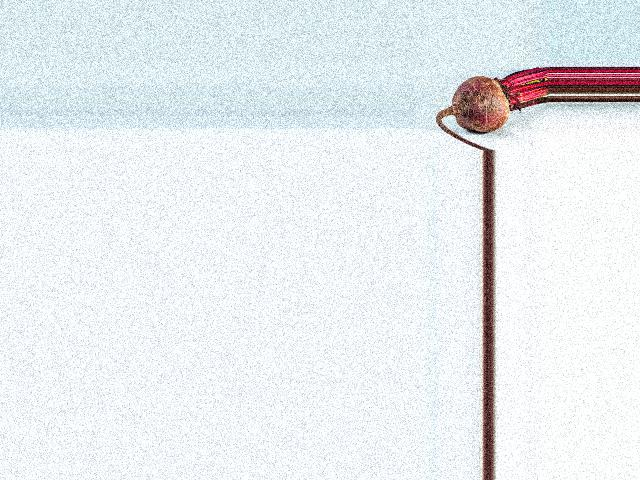beet: (436, 66, 550, 150)
